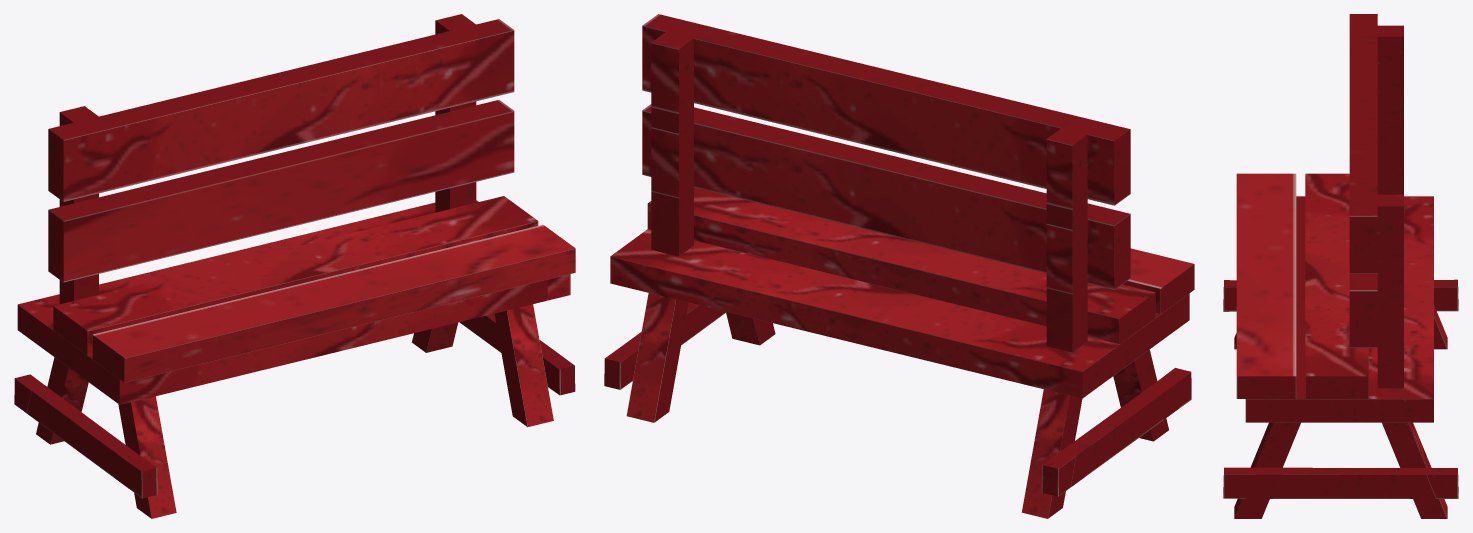
File: Bench.fbx
3 views of the same model, side by side, from view 1: azimuth 30°, elevation 25°; view 2: azimuth 150°, elevation 25°; view 3: azimuth 270°, elevation 25° (orthographic). The views are drawn at different scales.
Visible parts, largest first — view 1: Bench; view 2: Bench; view 3: Bench.
Boxes of the visible parts, x1,y1,x2,y2 form: Bench: [14, 14, 575, 518]; Bench: [604, 14, 1194, 518]; Bench: [1223, 14, 1458, 518].
Bounding box in the file's own units: 219 × 158 × 108.
